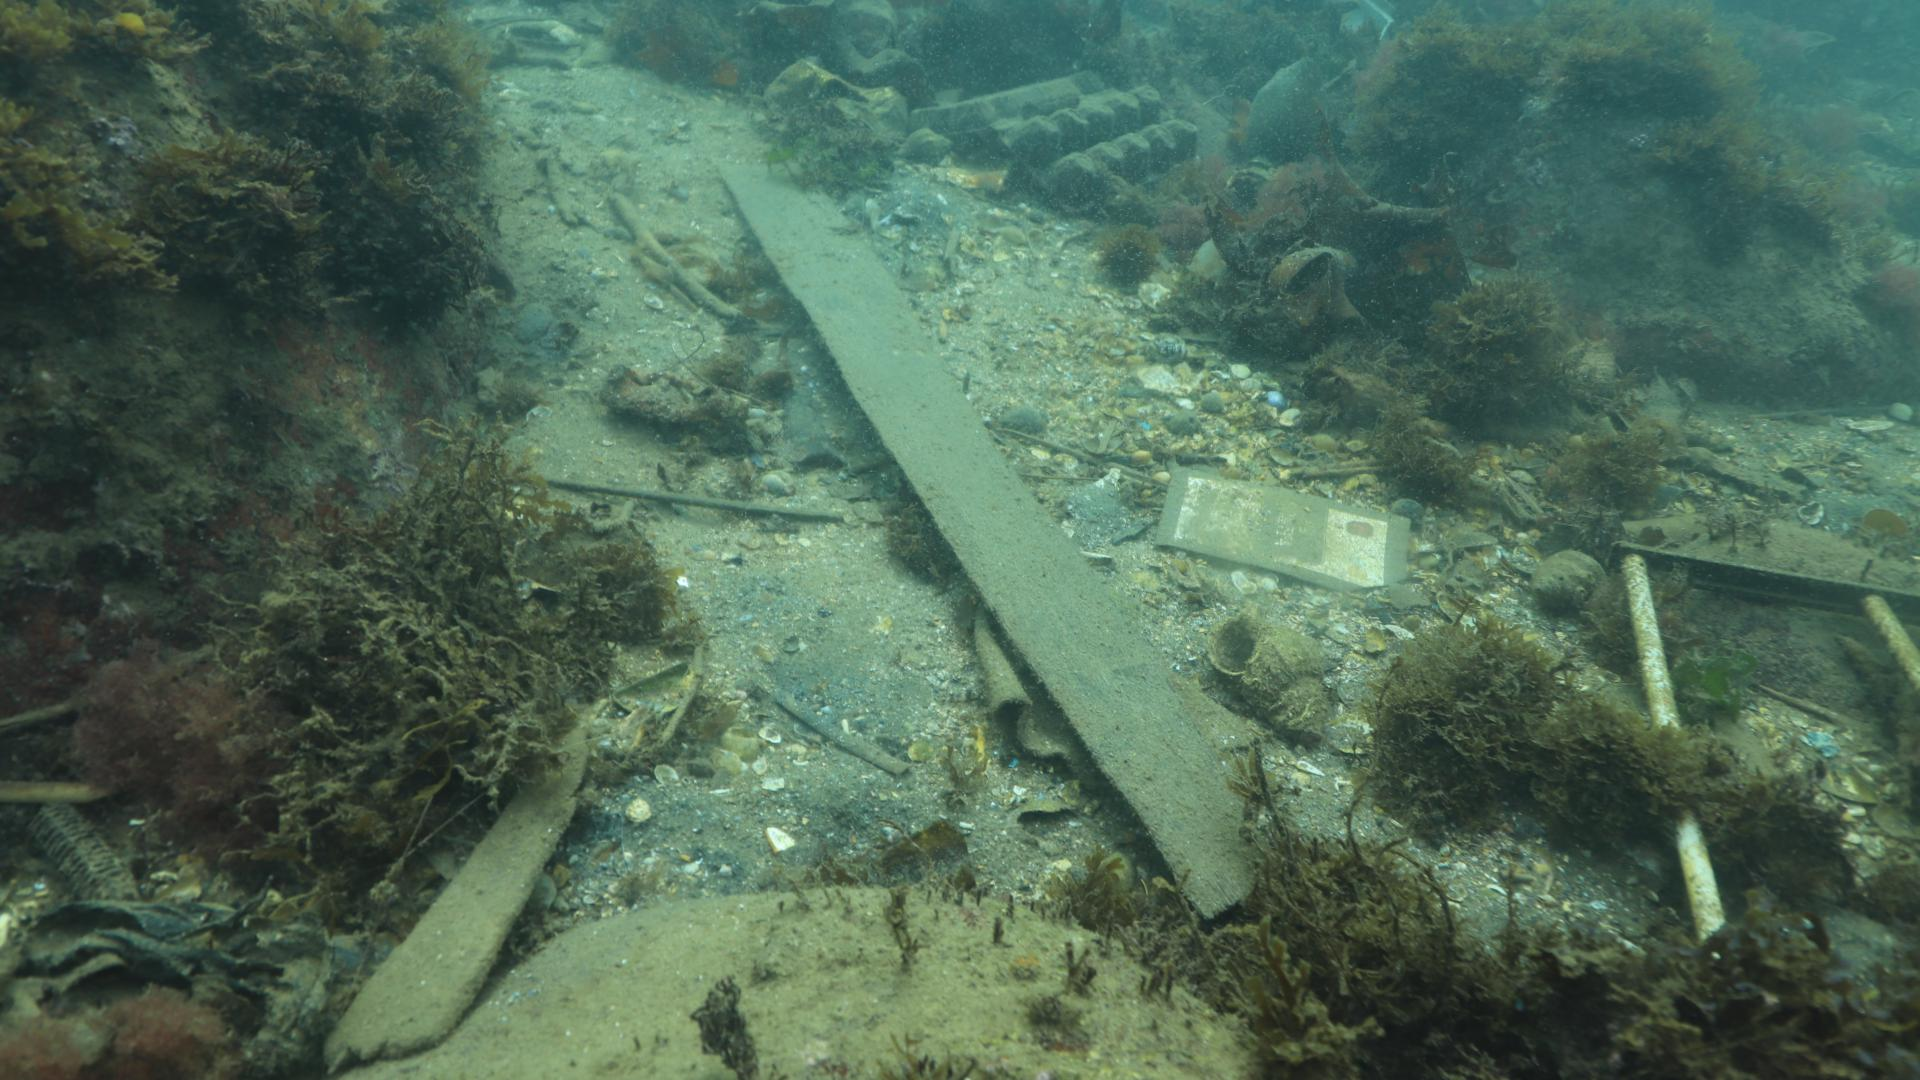wood: (713, 157, 1262, 923)
